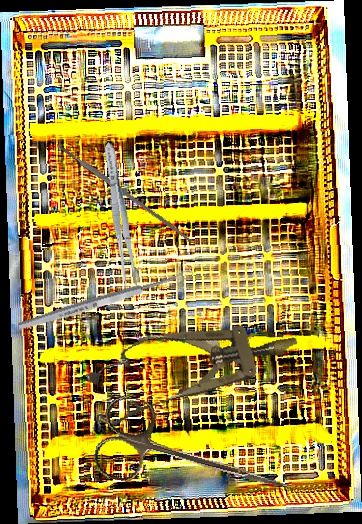Dressing Forceps: (99, 140, 141, 289)
Iris Scissors: (89, 391, 303, 524)
Scalpel Handle: (55, 141, 194, 244)
Speculum: (77, 301, 308, 433)
Surgical Spoon: (17, 267, 195, 333)
